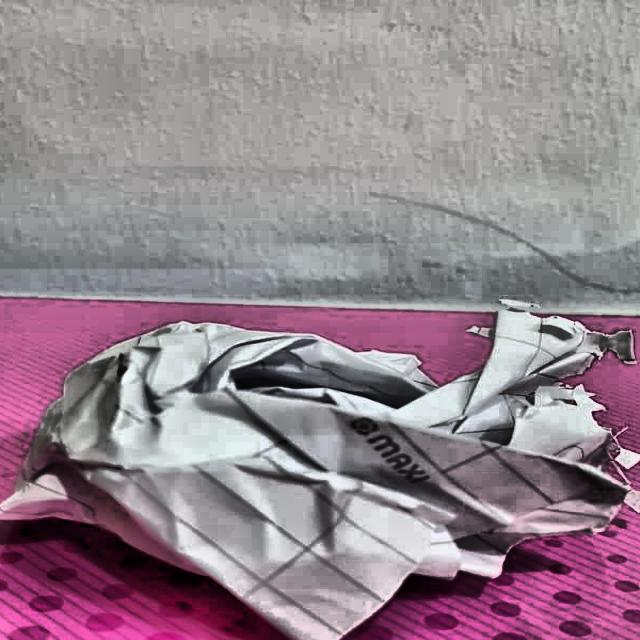paper: (65, 313, 619, 587)
